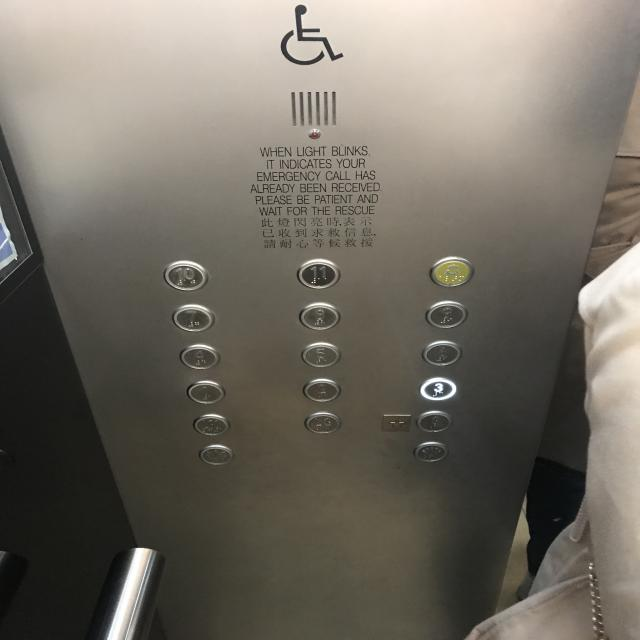1: (186, 380, 225, 404)
10: (163, 258, 208, 292)
11: (295, 257, 341, 289)
2: (301, 378, 340, 402)
3: (418, 376, 457, 401)
4: (179, 343, 221, 371)
5: (300, 342, 340, 368)
6: (421, 340, 462, 366)
7: (172, 303, 215, 333)
8: (298, 301, 340, 331)
9: (424, 299, 467, 329)
G: (414, 410, 453, 432)
LG: (302, 412, 342, 434)
LG1: (191, 412, 230, 436)
alarm: (428, 256, 474, 288)
close: (199, 444, 234, 466)
open: (413, 440, 448, 462)
s: (379, 412, 412, 433)
